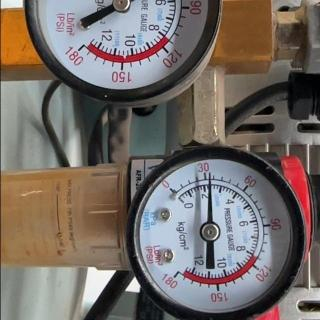gauge: (125, 145, 313, 319), (1, 0, 225, 110), (63, 31, 97, 63), (199, 221, 221, 243), (161, 180, 181, 200), (166, 267, 186, 285), (112, 0, 132, 12), (204, 168, 212, 180)
